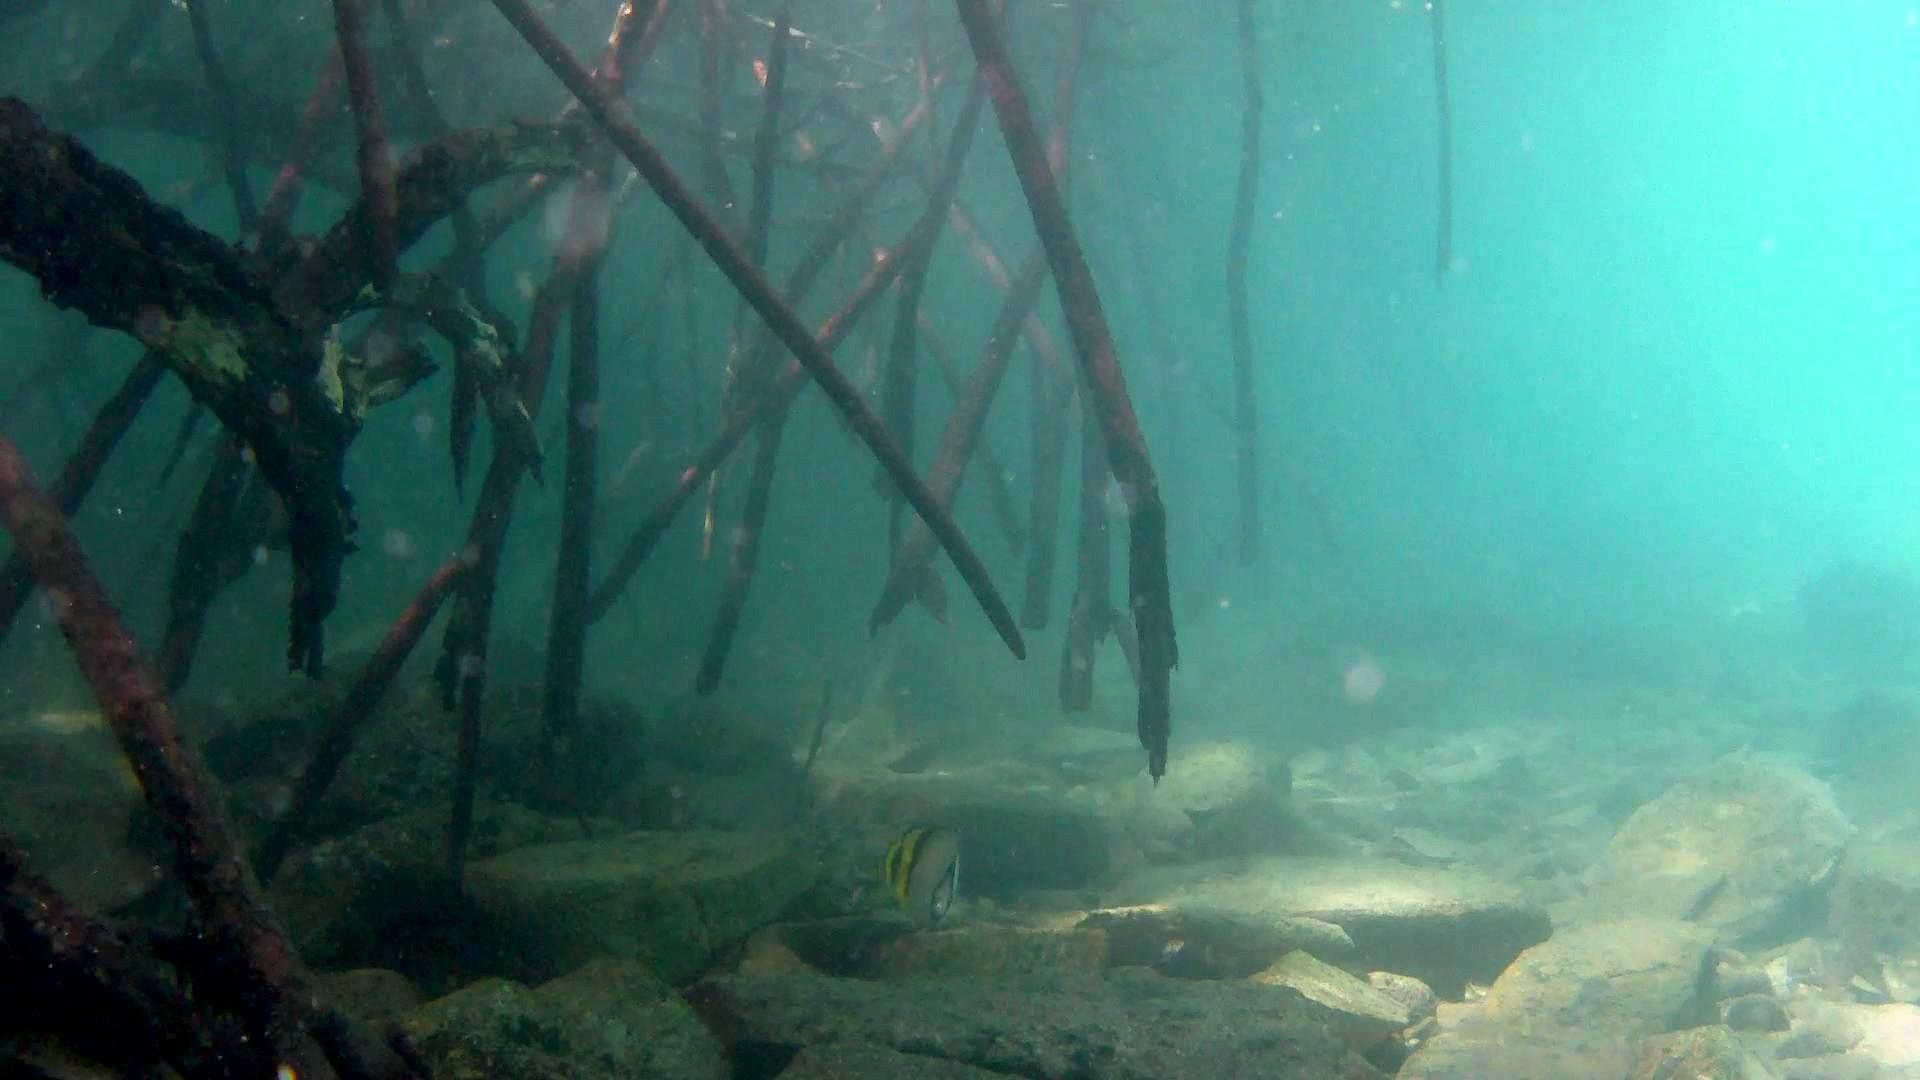chaetodon vagabundus: (880, 822, 964, 933)
